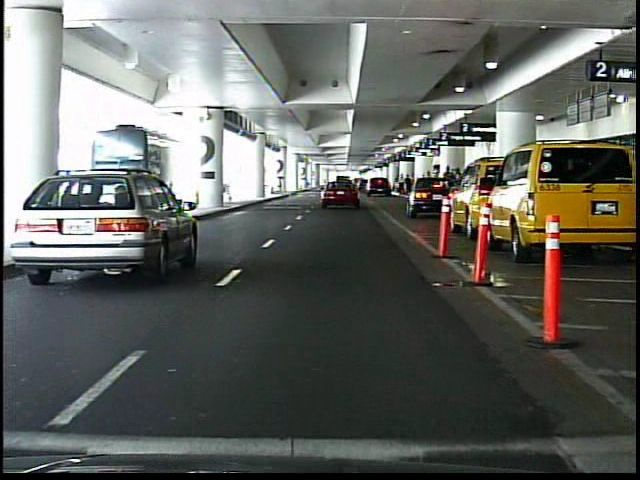person: (440, 162, 458, 212), (398, 173, 407, 196), (405, 173, 413, 196)
